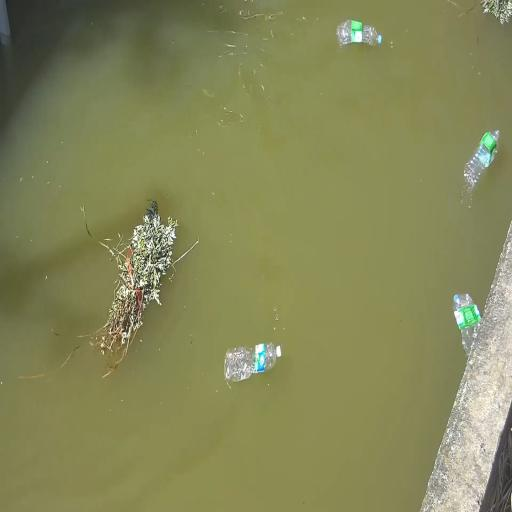plastic: (225, 343, 281, 382), (464, 130, 499, 191), (454, 294, 481, 355), (337, 20, 381, 46)
twig: (91, 201, 178, 376), (481, 0, 512, 24)
